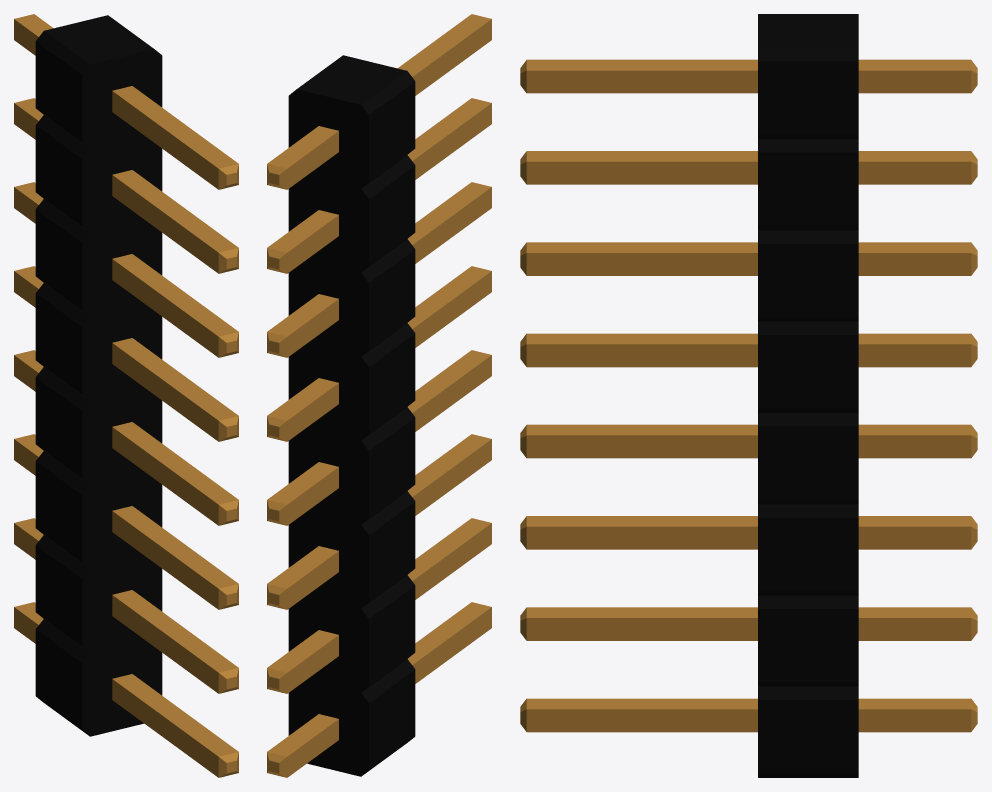
Rendered from pinheader_1x08_p2.54mm_vertical.glb.
3 views of the same model, side by side, from view 1: azimuth 30°, elevation 25°; view 2: azimuth 150°, elevation 25°; view 3: azimuth 270°, elevation 25° (orthographic). The views are drawn at different scales.
Parts seen in each view (by area): view 1: PinHeader_1x08_P2.54mm_Vertical; view 2: PinHeader_1x08_P2.54mm_Vertical; view 3: PinHeader_1x08_P2.54mm_Vertical.
Part boxes in pixels (x1,y1,x2,y2): PinHeader_1x08_P2.54mm_Vertical: (14, 14, 238, 777); PinHeader_1x08_P2.54mm_Vertical: (267, 14, 491, 777); PinHeader_1x08_P2.54mm_Vertical: (520, 14, 977, 777).
Size of the model in its own units: 2.54 by 20.32 by 11.54.
